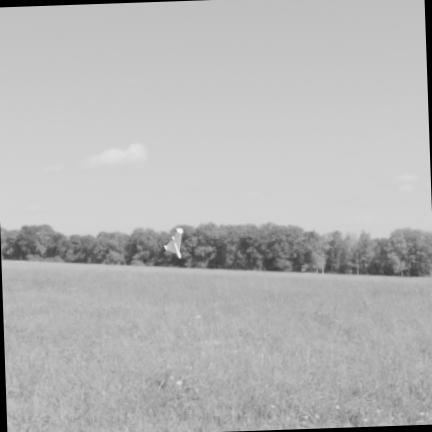Shahed: (164, 229, 182, 258)
